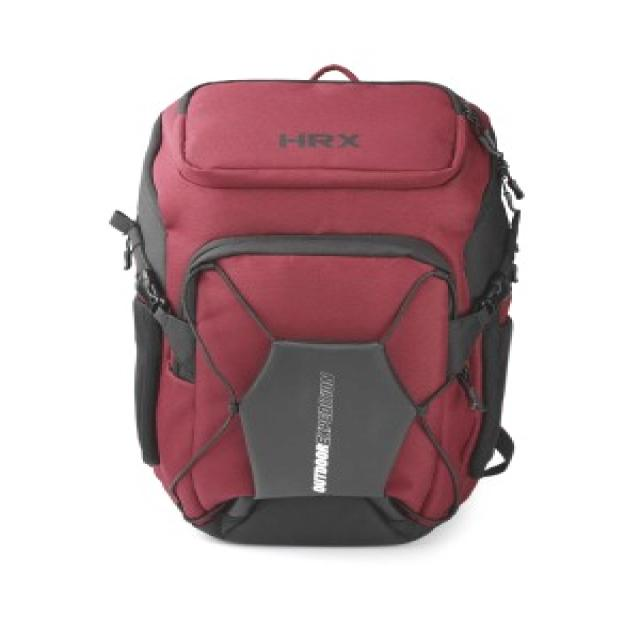backpack: (110, 64, 524, 549)
